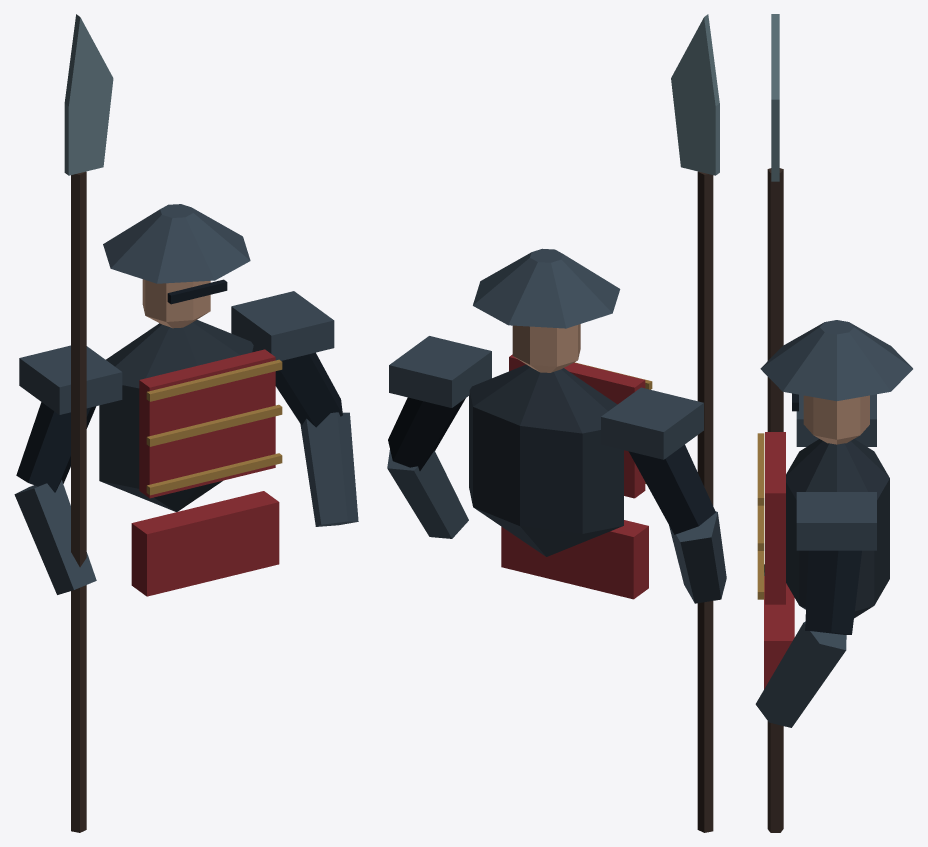
The model's file is soldier_body.glb.
3 views of the same model, side by side, from view 1: azimuth 30°, elevation 25°; view 2: azimuth 150°, elevation 25°; view 3: azimuth 270°, elevation 25° (orthographic).
Parts seen in each view (by area): view 1: soldier_body; view 2: soldier_body; view 3: soldier_body.
Boxes of the visible parts, <box> form: soldier_body: <box>14,14,358,832</box>; soldier_body: <box>387,14,726,832</box>; soldier_body: <box>755,14,912,832</box>.
Size of the model in its own units: 0.9916 by 2.35 by 0.4125.
